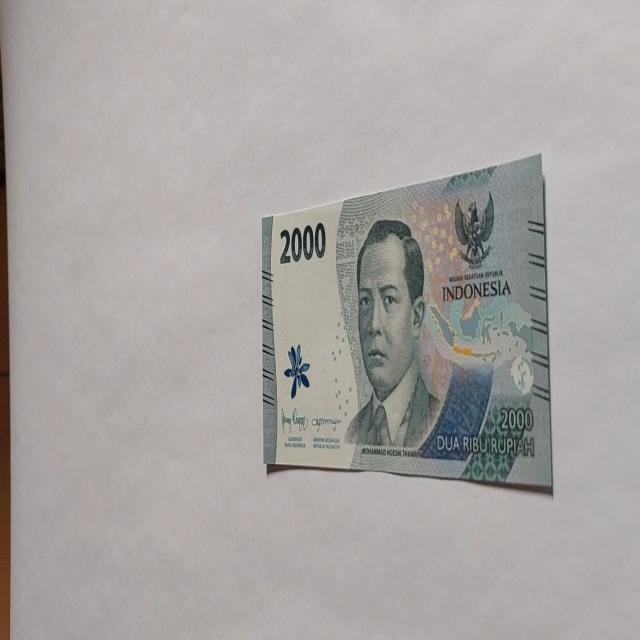dua ribu rupiah: (262, 153, 552, 491), (344, 218, 442, 450)
